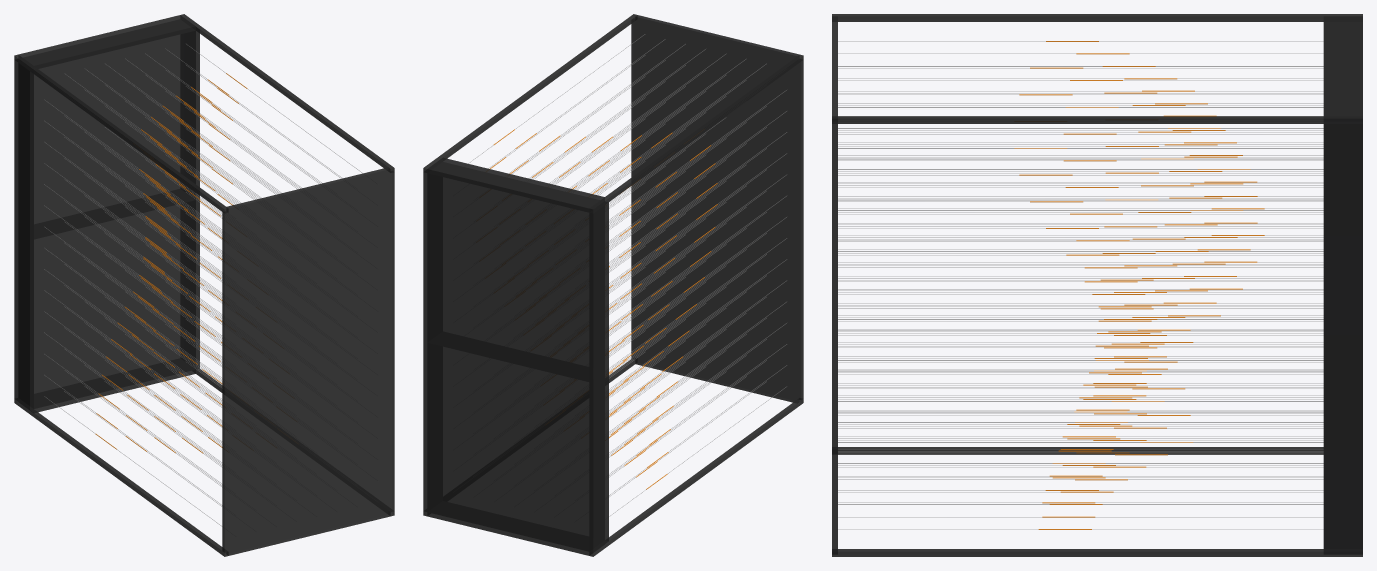
The model's file is 20250616_linz.obj.
3 views of the same model, side by side, from view 1: azimuth 30°, elevation 25°; view 2: azimuth 150°, elevation 25°; view 3: azimuth 270°, elevation 25° (orthographic). The views are drawn at different scales.
Visible parts, largest first — view 1: obj257, obj266, obj267, obj265, obj264, obj262, obj263, obj258, obj260, obj259; view 2: obj257, obj267, obj266, obj265, obj264, obj262, obj263, obj258, obj259, obj260; view 3: obj264, obj267, obj259, obj261, obj258, obj262, obj260, obj257, obj266, obj136, obj166, obj181 (+4 smaller).
Boxes of the visible parts, box(x1,y1,x2,y2) form: obj257: box(222, 167, 394, 555); obj266: box(19, 23, 195, 239); obj267: box(19, 190, 195, 408); obj265: box(14, 60, 33, 409); obj264: box(180, 28, 199, 369); obj262: box(18, 15, 195, 69); obj263: box(30, 359, 195, 412); obj258: box(14, 54, 228, 213); obj260: box(14, 398, 228, 556); obj259: box(180, 14, 394, 172); obj257: box(631, 15, 803, 402); obj267: box(427, 333, 604, 551); obj266: box(427, 164, 604, 381); obj265: box(589, 202, 608, 552); obj264: box(423, 172, 442, 511); obj262: box(427, 157, 604, 212); obj263: box(427, 501, 589, 555); obj258: box(589, 54, 803, 213); obj259: box(423, 14, 637, 172); obj260: box(589, 399, 803, 556); obj264: box(1323, 122, 1362, 551); obj267: box(1324, 336, 1362, 547); obj259: box(832, 116, 1362, 123); obj261: box(832, 549, 1362, 556); obj258: box(832, 14, 1362, 21); obj262: box(1323, 16, 1362, 120); obj260: box(836, 447, 1323, 454); obj257: box(832, 16, 837, 554); obj266: box(1324, 22, 1362, 334); obj136: box(838, 329, 1323, 330); obj166: box(838, 411, 1323, 412); obj181: box(838, 452, 1323, 453).
Size of the model in its own units: 1260 by 2460 by 2700.
